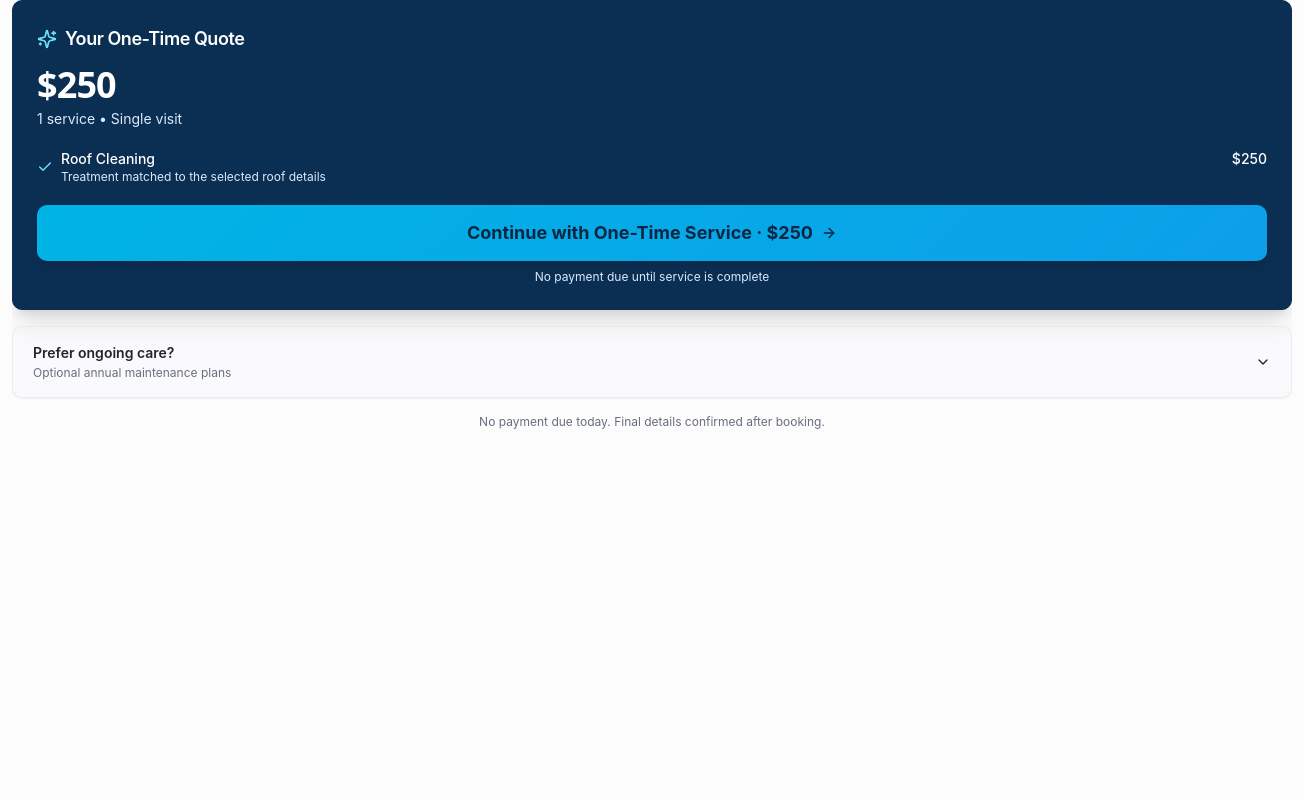
Test case: PlanUpsellCard — fail-closed plan behavior › never enables the CTA when the selected bundle has a zero annual total
Click the button with test id "plans-toggle" at (104, 352), box x1=13 y1=327 x2=1291 y2=397
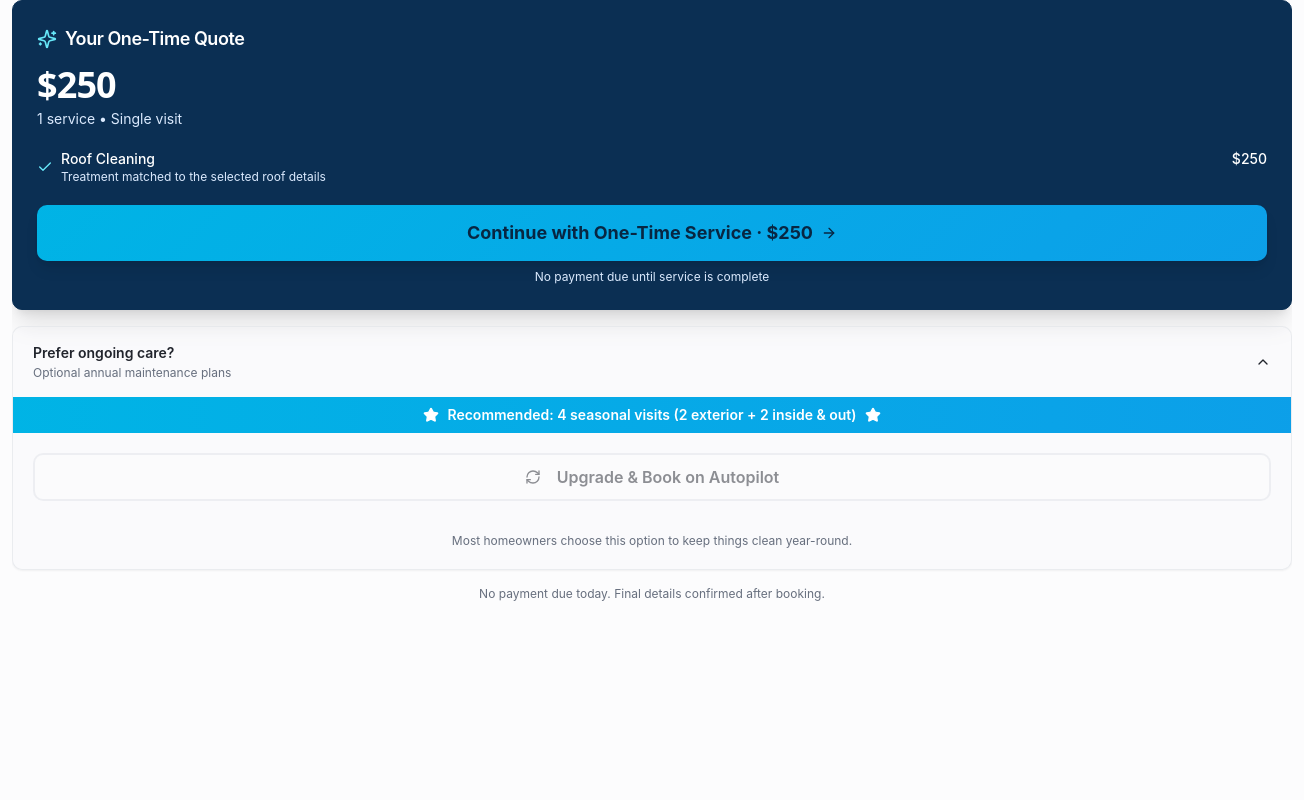
expect the button with test id "plan-upgrade-cta" is disabled: met, box x1=33 y1=453 x2=1271 y2=501
